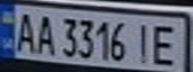1: (93, 17, 112, 61)
3: (75, 16, 96, 60), (57, 14, 78, 57)
6: (109, 19, 133, 63)
A: (12, 9, 39, 54), (33, 11, 57, 56)
E: (148, 20, 184, 68)
I: (130, 20, 157, 64)
